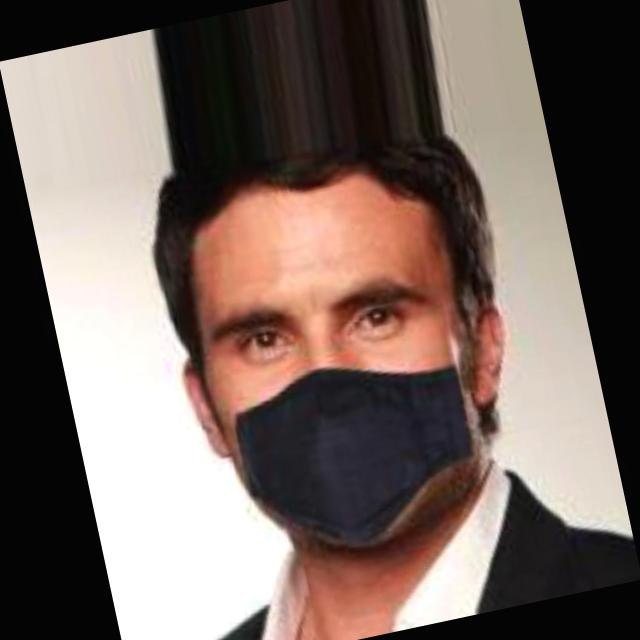suspicion: (112, 120, 538, 592)
